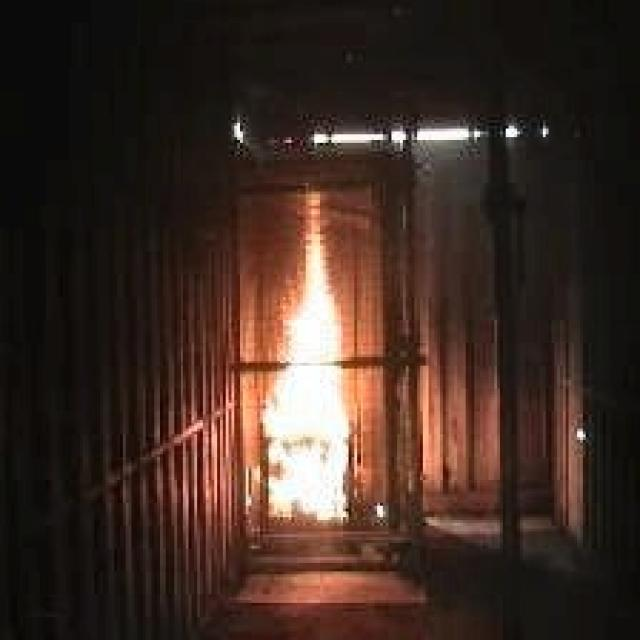fire: (253, 212, 364, 532)
